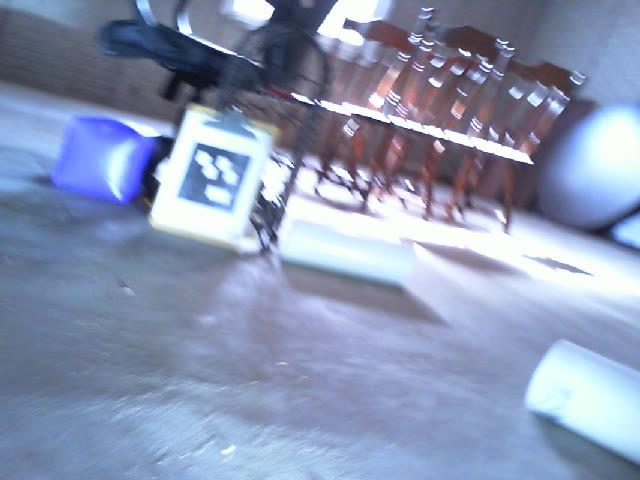coral: (525, 339, 640, 468)
